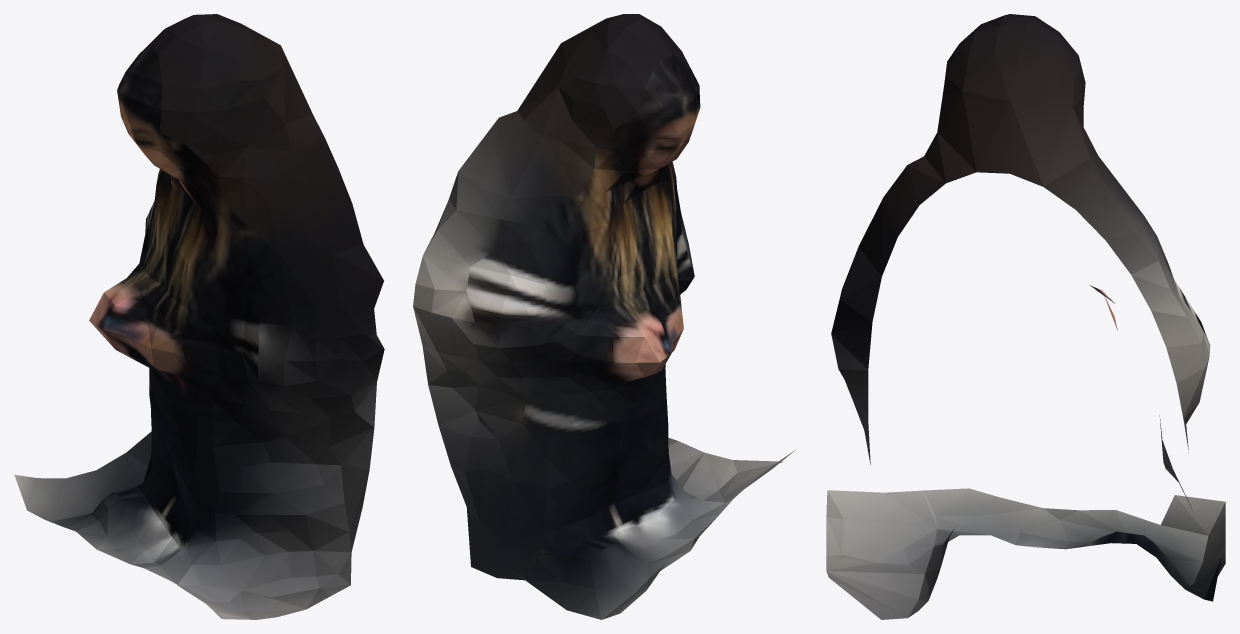
3 renders of one model, left to right at view 1: azimuth 30°, elevation 25°; view 2: azimuth 150°, elevation 25°; view 3: azimuth 270°, elevation 25°, orthographic. The views are drawn at different scales.
Bounding box in the file's own units: 0.444 × 1.02 × 0.6359.
Materials: 1 (1 with a texture image).
